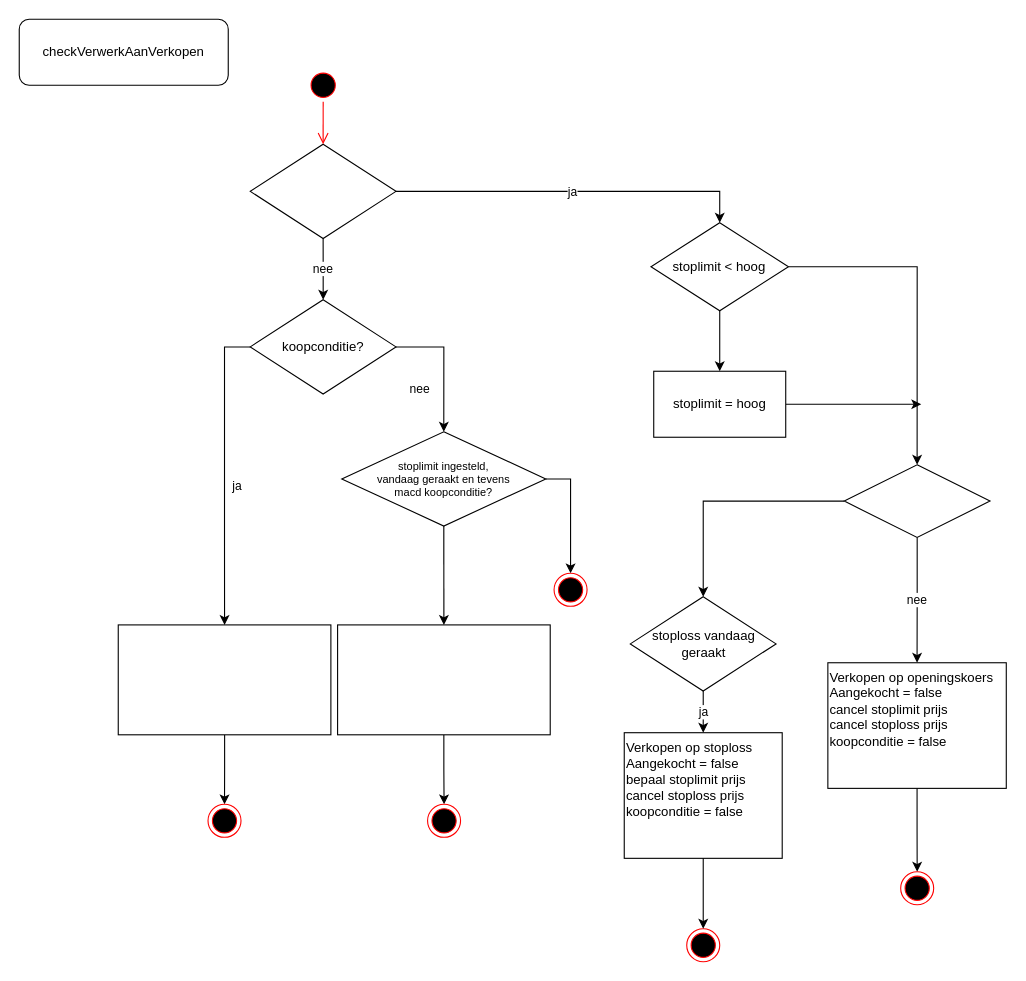
This 1026x981 diagram has some shape labels left out. The centre of each missing label's shape, as x and y in pixels:
Aangekocht?: the point at 322,190
Kopen tegen openingsprijs Aangekocht = true bepaal stoploss prijs: the point at 224,679
Kopen tegen stoplimit prijs Aangekocht = true bepaal stoploss prijs: the point at 443,679
MACD koopconditie: the point at 916,500
